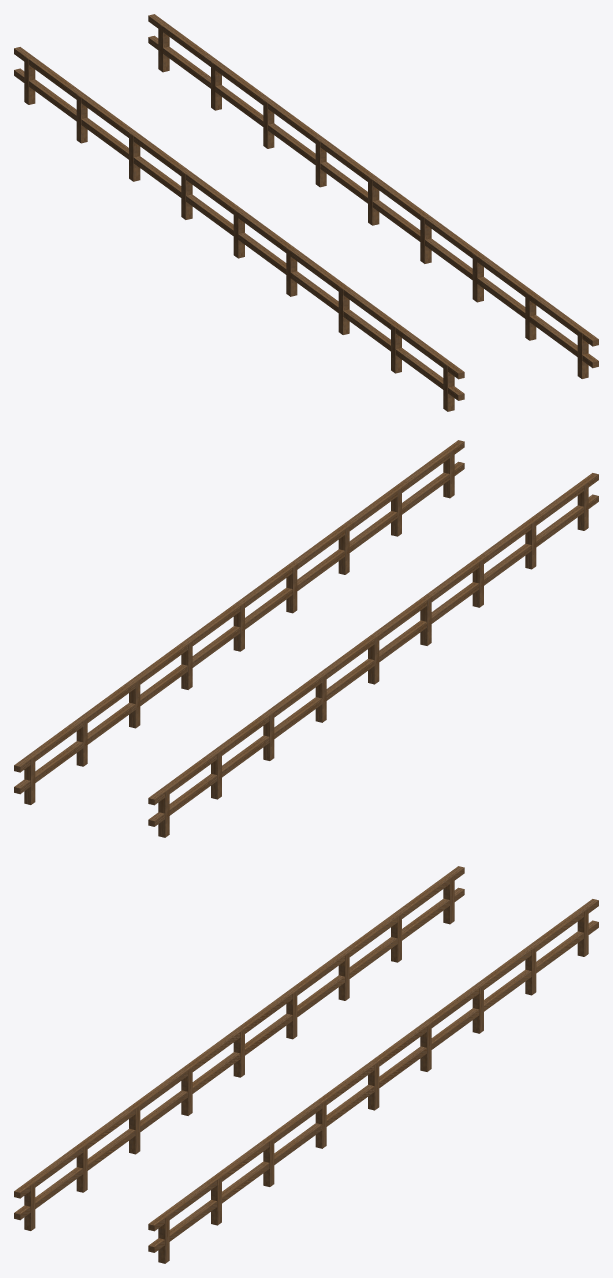
Rendered from bridge-rails.obj.
3 views of the same model, one above another, from view 1: azimuth 30°, elevation 25°; view 2: azimuth 150°, elevation 25°; view 3: azimuth 330°, elevation 25° (orthographic).
Size of the model in its own units: 3.34 by 1.04 by 18.24.
Materials: 1 (1 with a texture image).
